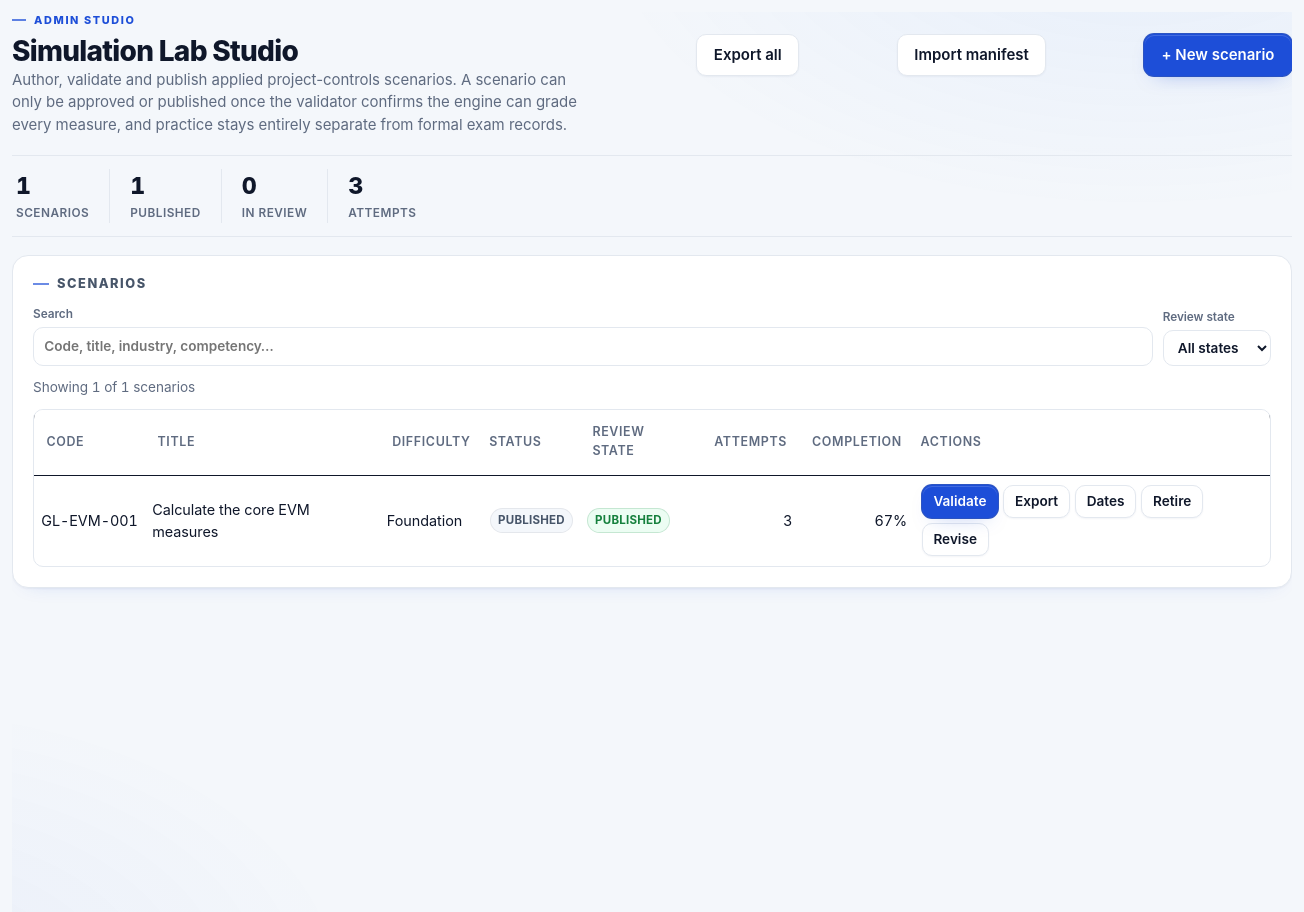
Scenario: Admin SimLab Studio › manifest export › downloads the raw manifest bytes under the filename the server chose
The width and height of the screenshot is (1304, 912).
Click the button "Export": point(1037, 502) [1003,485,1070,518]
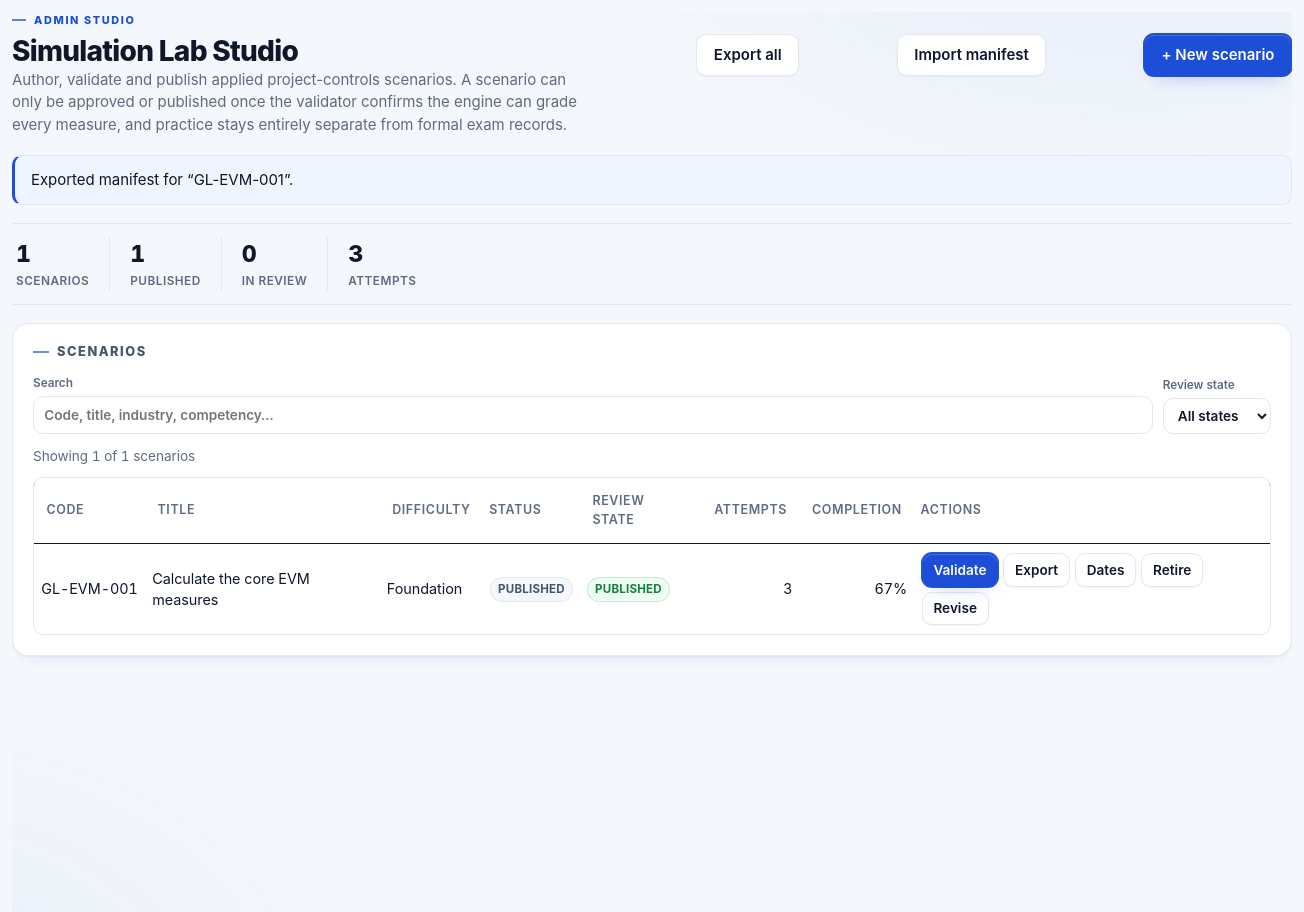
Expected: the text "Exported manifest for “GL-EVM-001”." is shown, [12,155,1292,205]
